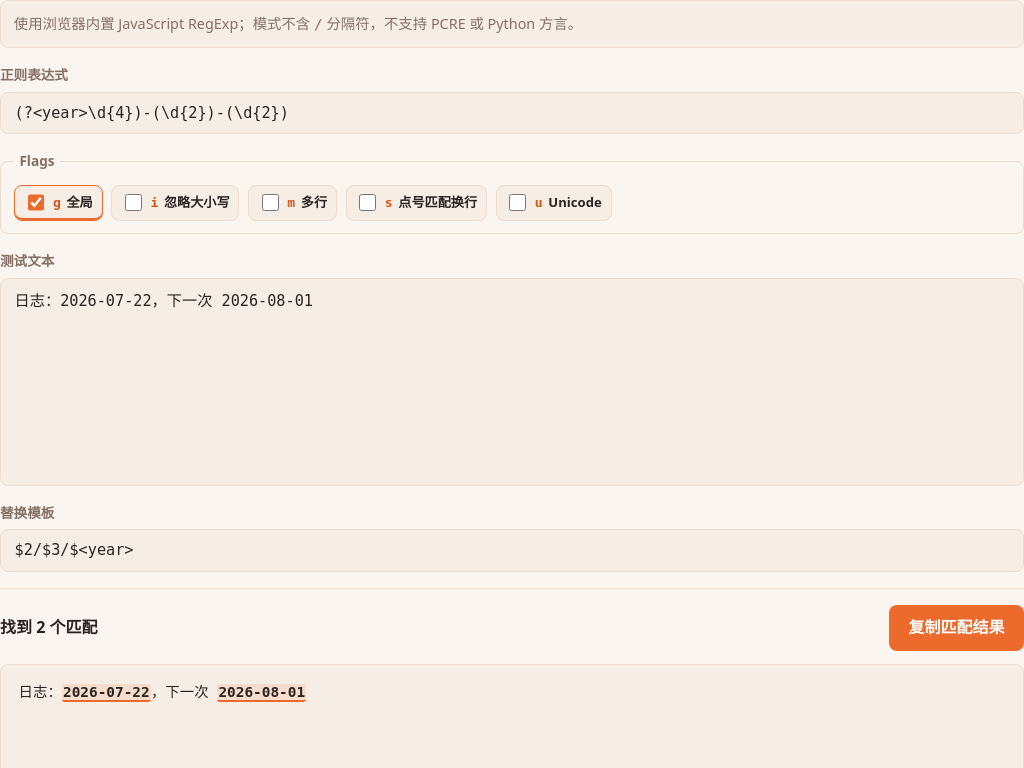
Test: renders syntax errors through ErrorView and clears stale results
Expected: the text "找到 2 个匹配" is shown, [0, 615, 98, 641]
Step 1. Replace the text in the field labelled "正则表达式" with "[" → (512, 113), box [0, 92, 1023, 134]
Wait 250 ms
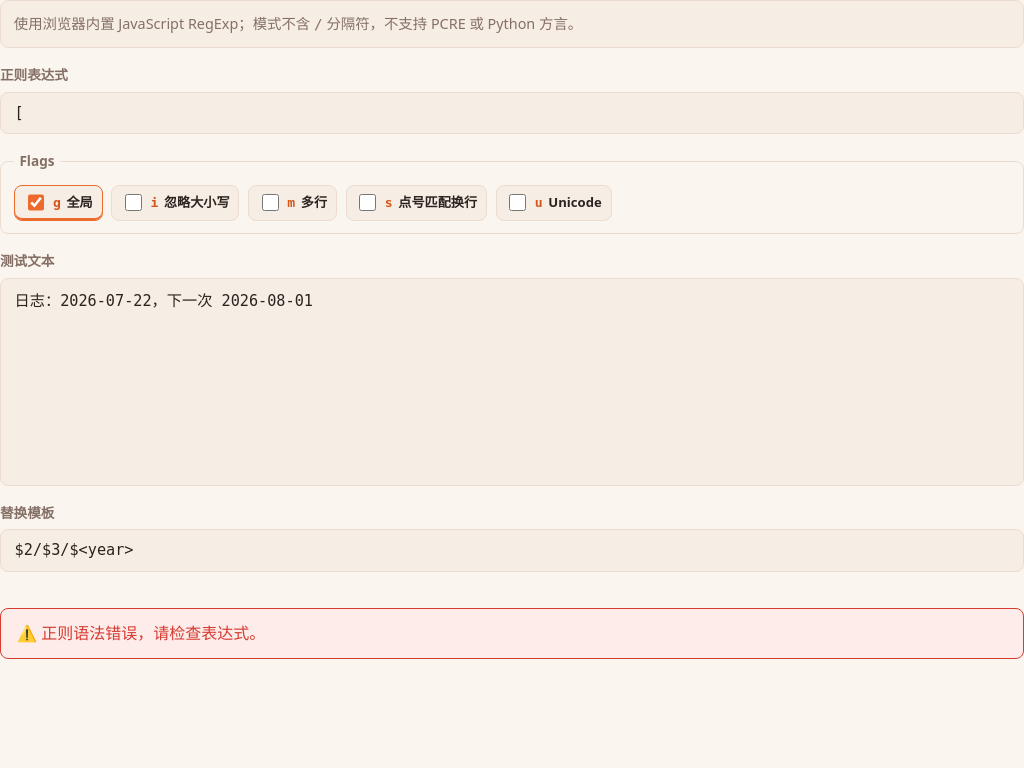
Now the message shows "正则语法错误，请检查表达式。", box [41, 622, 265, 644]
Now the text "找到 2 个匹配" is gone
